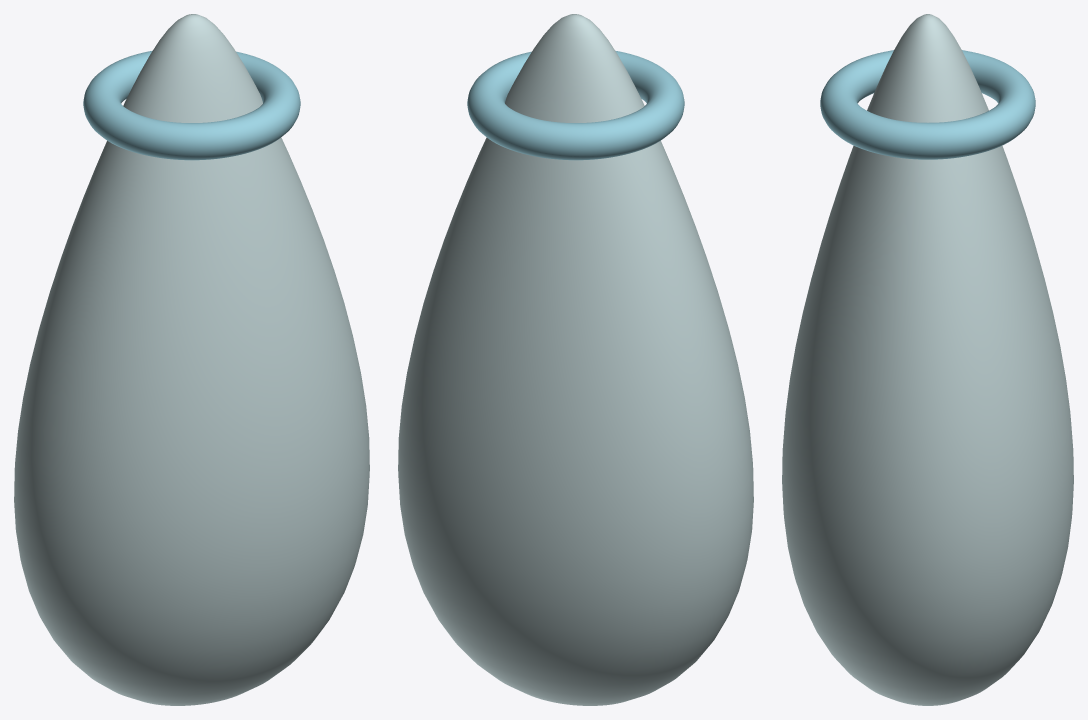
The picture shows the model from 3 angles, left to right: view 1: azimuth 30°, elevation 25°; view 2: azimuth 150°, elevation 25°; view 3: azimuth 270°, elevation 25°; orthographic projection.
Visible parts, largest first — view 1: hanging-drop, outlet-ring; view 2: hanging-drop, outlet-ring; view 3: hanging-drop, outlet-ring.
Boxes of the visible parts, x1,y1,x2,y2 form: hanging-drop: [14, 14, 369, 705]; outlet-ring: [83, 50, 300, 160]; hanging-drop: [398, 14, 753, 705]; outlet-ring: [467, 50, 684, 160]; hanging-drop: [782, 14, 1073, 705]; outlet-ring: [820, 50, 1035, 159].
Size of the model in its own units: 0.9991 by 2 by 0.785.
